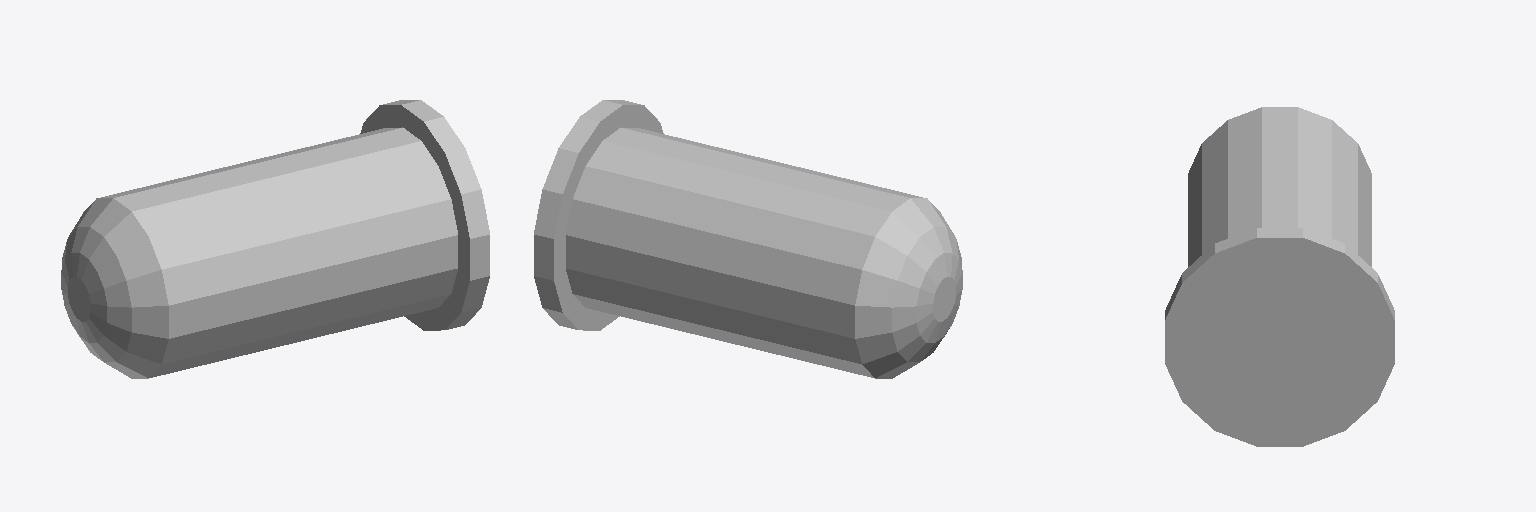
File: pipeworks_pipe_2.obj
3 views of the same model, side by side, from view 1: azimuth 30°, elevation 25°; view 2: azimuth 150°, elevation 25°; view 3: azimuth 270°, elevation 25° (orthographic).
Parts seen in each view (by area): view 1: pipe.001_Cylinder.000; view 2: pipe.001_Cylinder.000; view 3: pipe.001_Cylinder.000.
Part boxes in pixels (x1,y1,x2,y2): pipe.001_Cylinder.000: (61, 100, 489, 378); pipe.001_Cylinder.000: (534, 100, 962, 378); pipe.001_Cylinder.000: (1165, 107, 1394, 446).
Size of the model in its own units: 0.542 by 0.3065 by 0.3065.